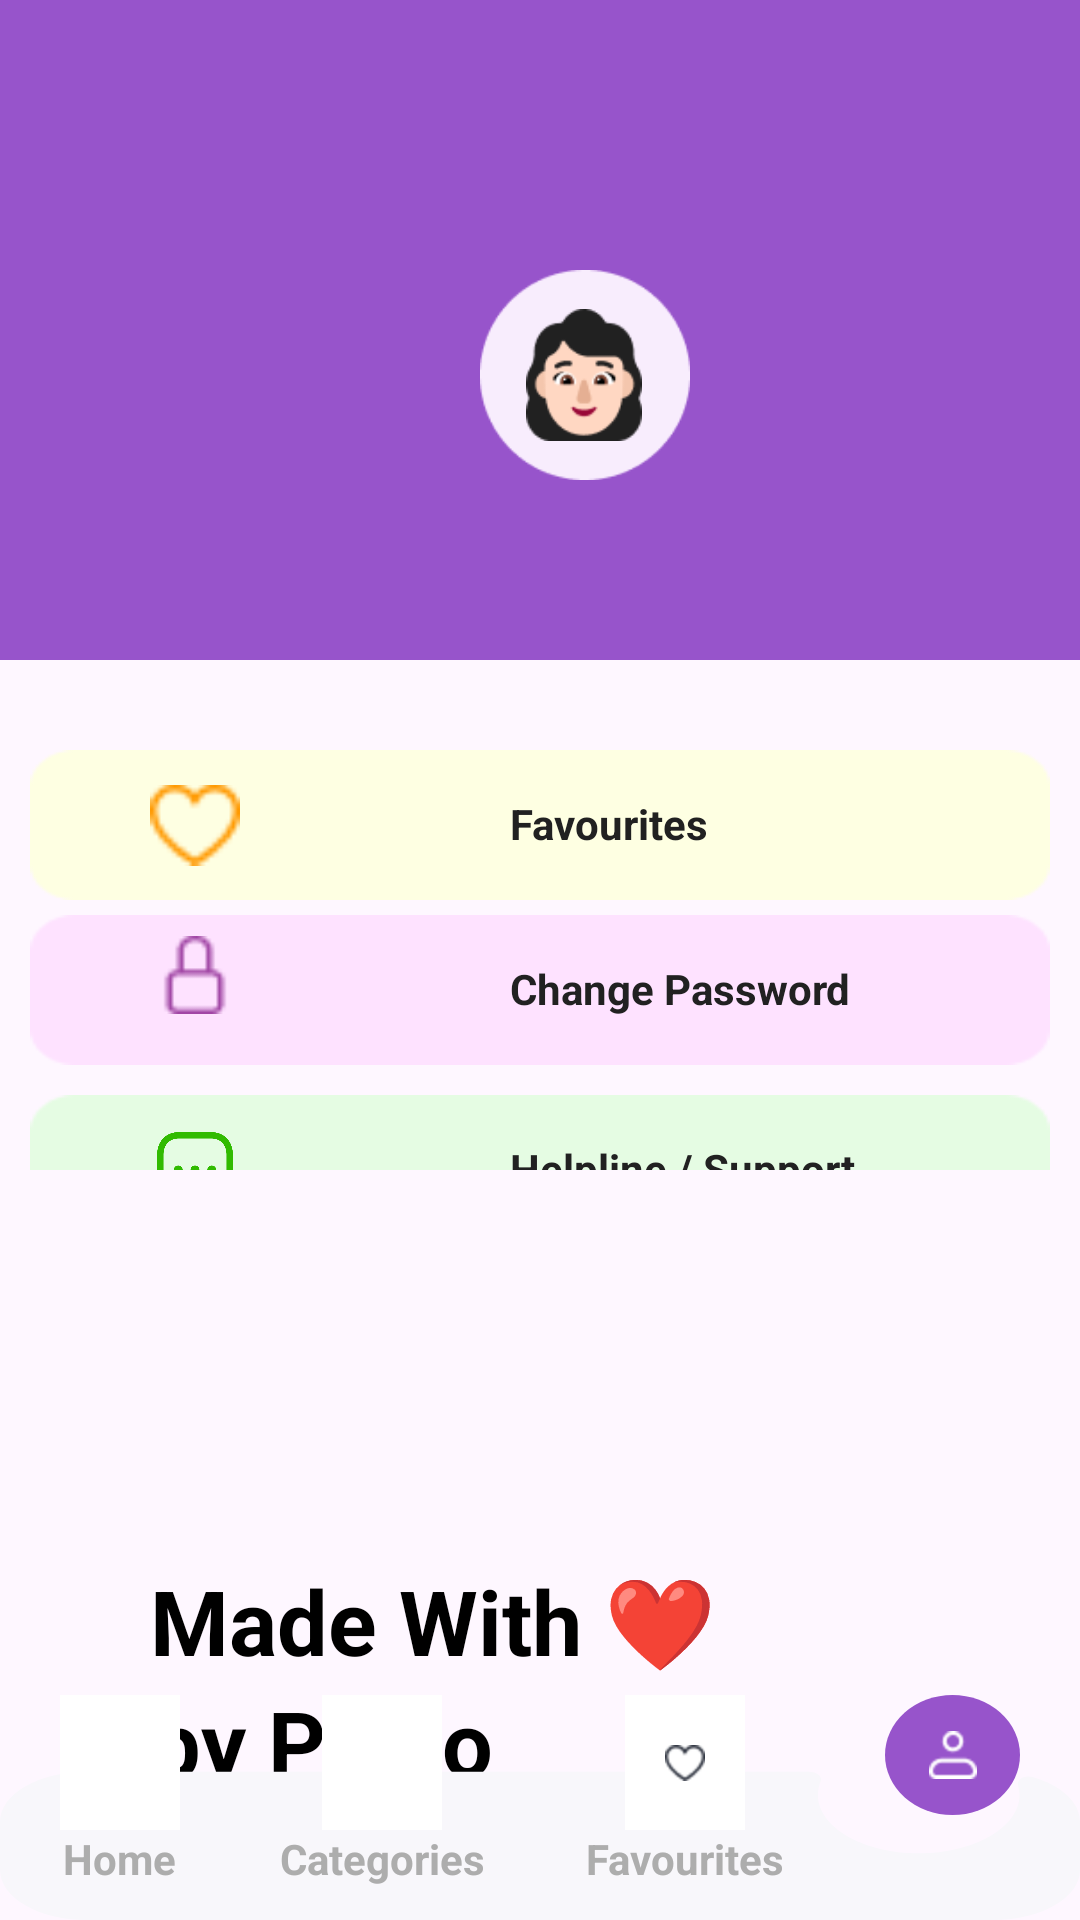

Screen size 1080 x 1920. Icon name, then its center in pixels as (x=x, y=y):
likebottompage: (x=685, y=1763)
likebtnprofile: (x=195, y=825)
lockbtn: (x=195, y=975)
profilebaeset: (x=952, y=1755)
profilimg: (x=584, y=375)
